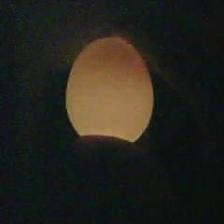infertile: (63, 30, 156, 148)
